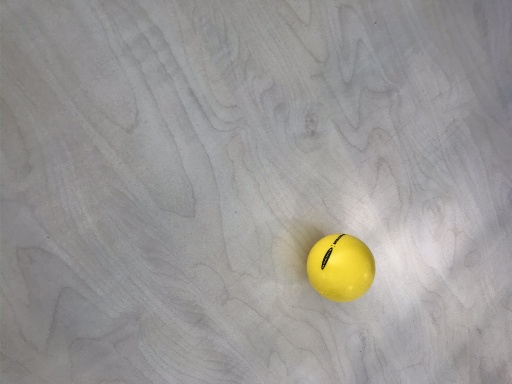Palla: (306, 232, 376, 302)
